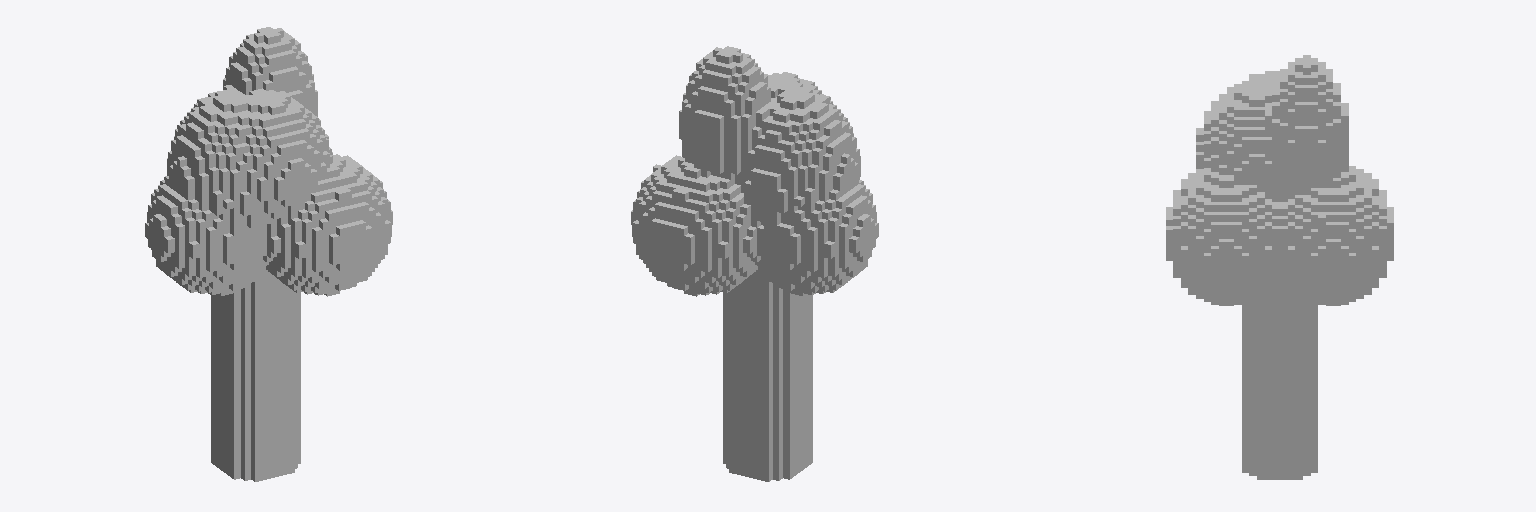
File: Tree.obj
The picture shows the model from 3 angles: view 1: azimuth 30°, elevation 25°; view 2: azimuth 150°, elevation 25°; view 3: azimuth 270°, elevation 25°; orthographic projection.
Parts seen in each view (by area): view 1: object 1; view 2: object 1; view 3: object 1.
Part boxes in pixels (left/top/right/bottom): object 1: left=145, top=27, right=392, bottom=481; object 1: left=631, top=46, right=878, bottom=481; object 1: left=1166, top=55, right=1393, bottom=479.
Size of the model in its own units: 3 by 6 by 3.